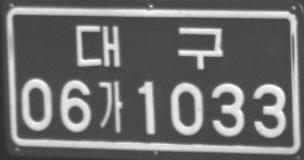0: (170, 80, 204, 135), (20, 78, 53, 131)
1: (133, 81, 162, 135)
3: (212, 81, 245, 136), (253, 82, 286, 137)
6: (60, 79, 92, 133)
가: (98, 81, 124, 133)
대구_D: (73, 24, 222, 71)
